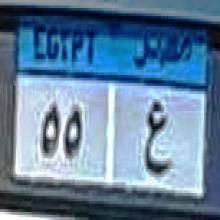5: (62, 98, 84, 162), (38, 100, 61, 160)
ain: (141, 95, 172, 183)
